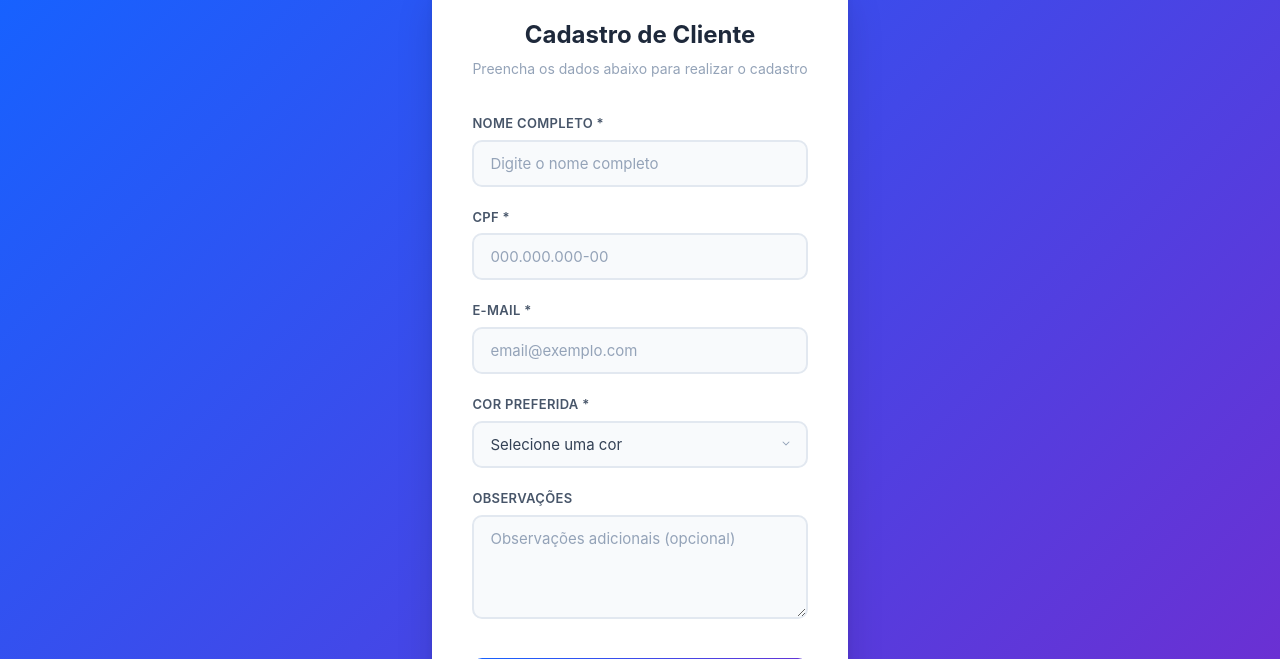
Test: ClientForm › shows error message on API failure
Type "João da Silva" into the field labelled "Nome completo *" at (640, 163), box 472,140 -> 808,187
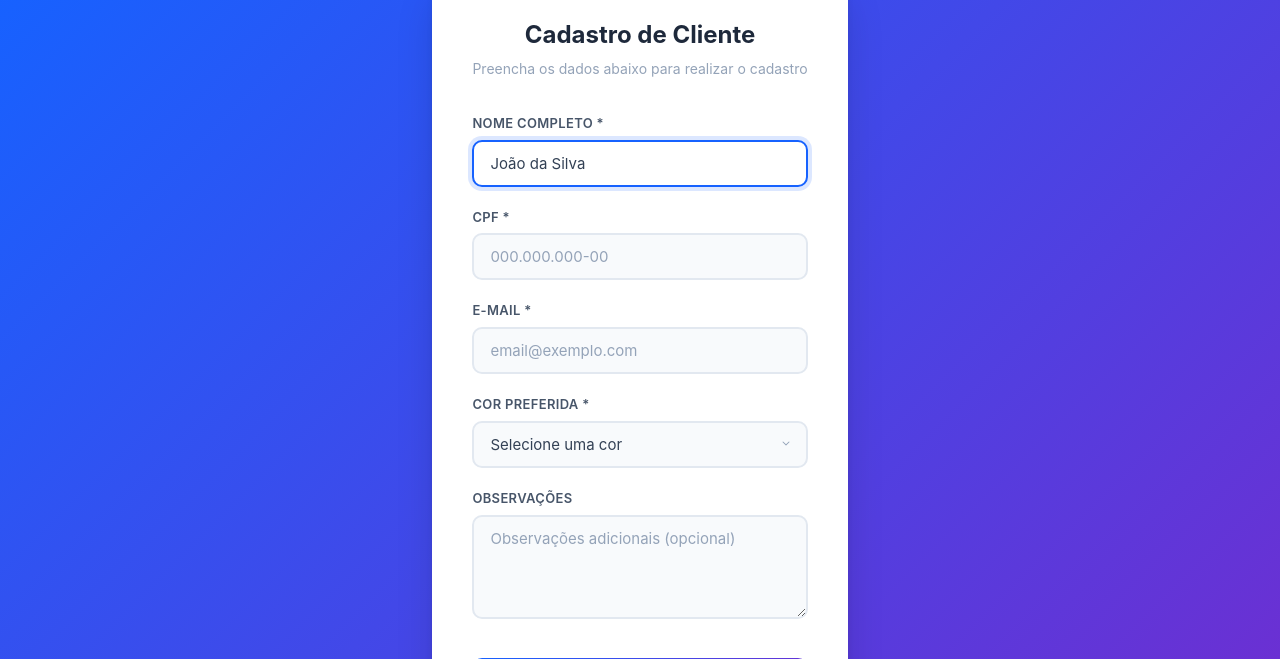
Type "52998224725" into the field labelled "CPF *" at (640, 257), box 472,233 -> 808,280
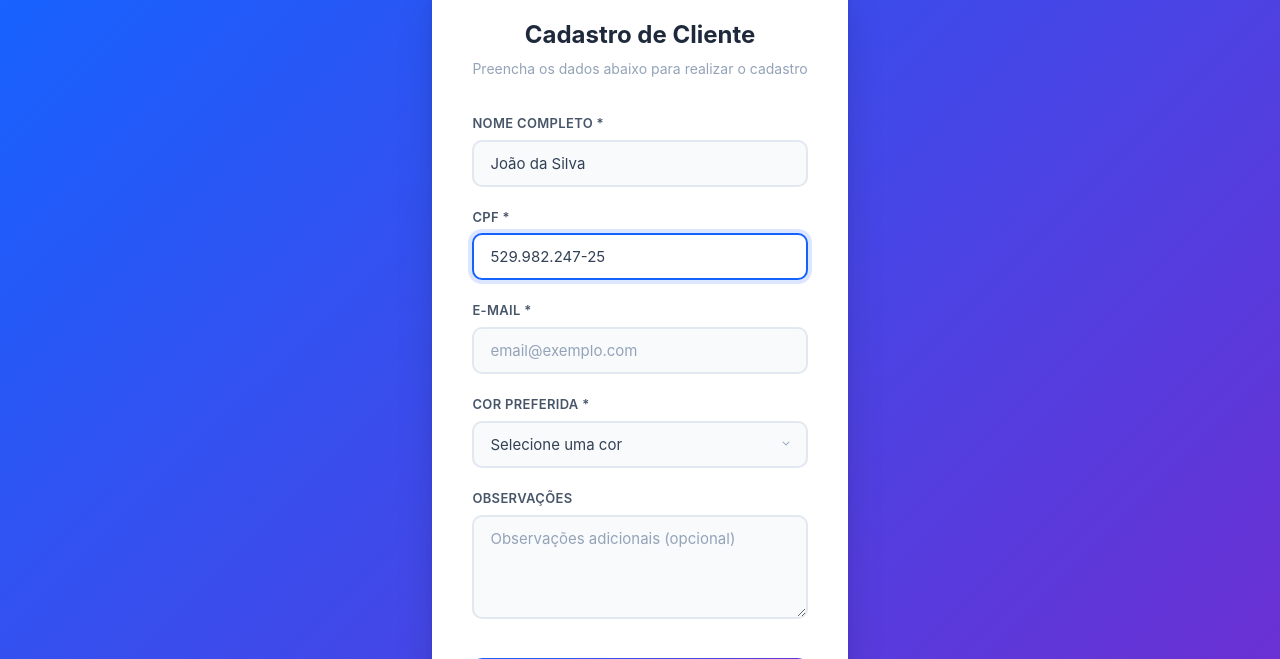
Type "joao@example.com" into the field labelled "E-mail *" at (640, 351), box 472,327 -> 808,374
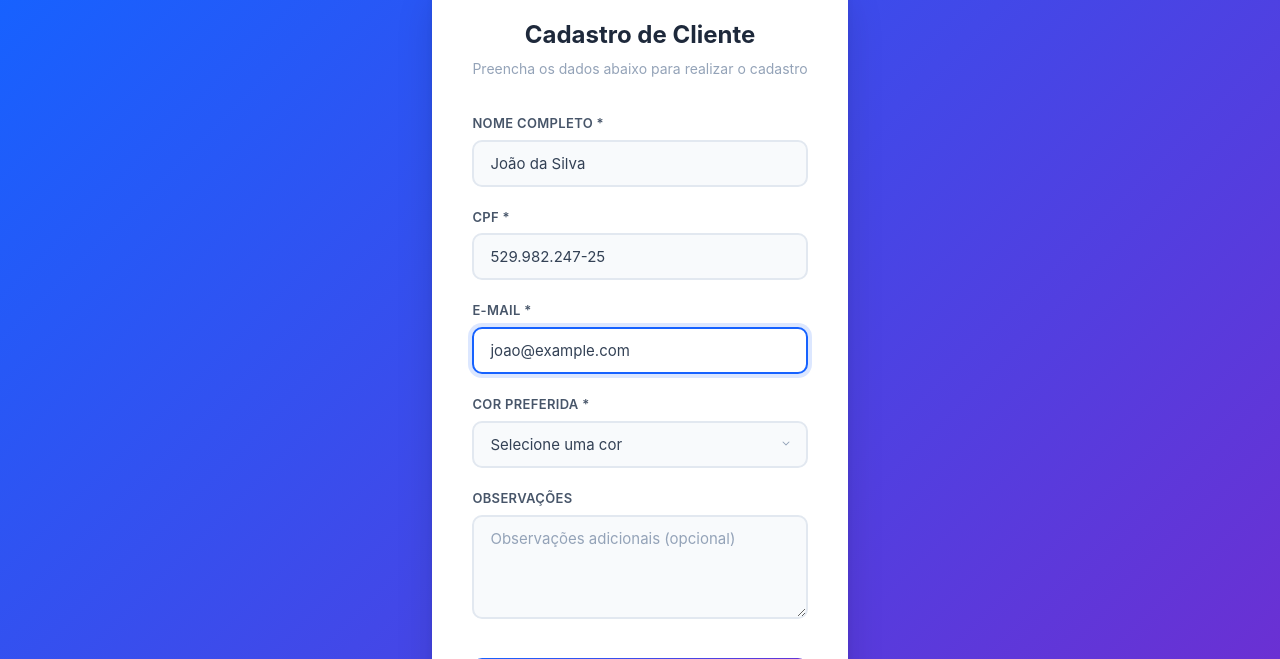
Select "Azul" in the dropdown labelled "Cor preferida *" at (640, 444), box 472,421 -> 808,468
(page scrolled)
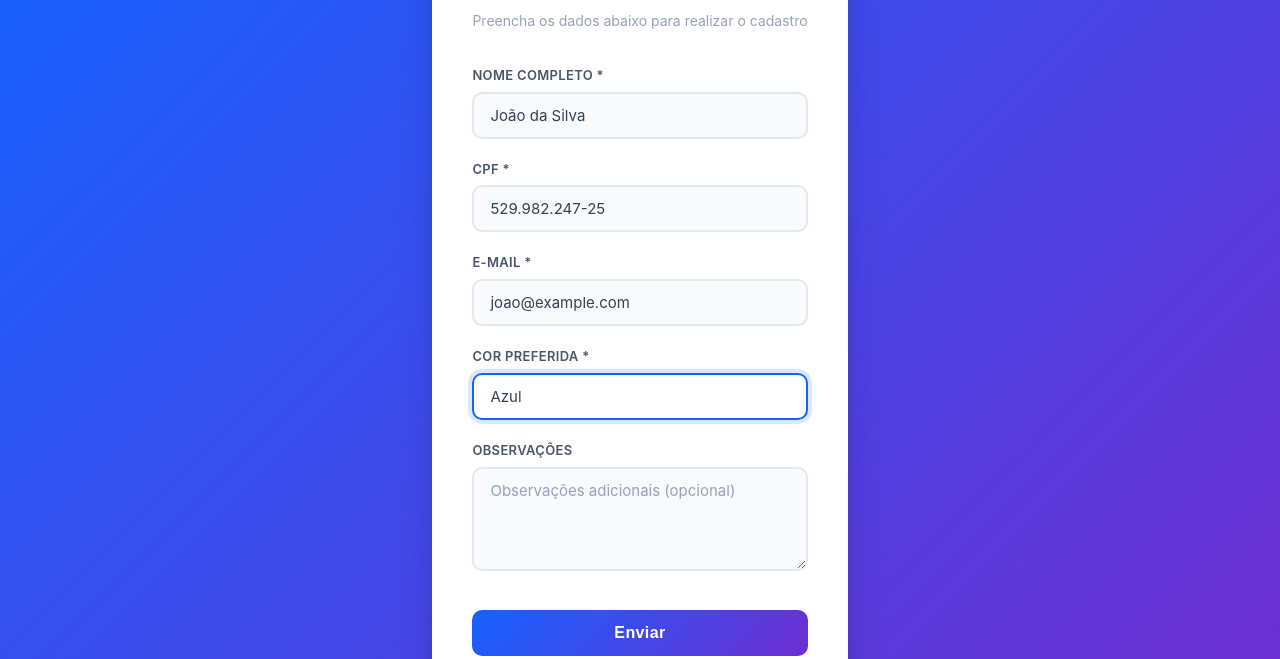
Click the button "Enviar" at (640, 633), box 472,610 -> 808,656
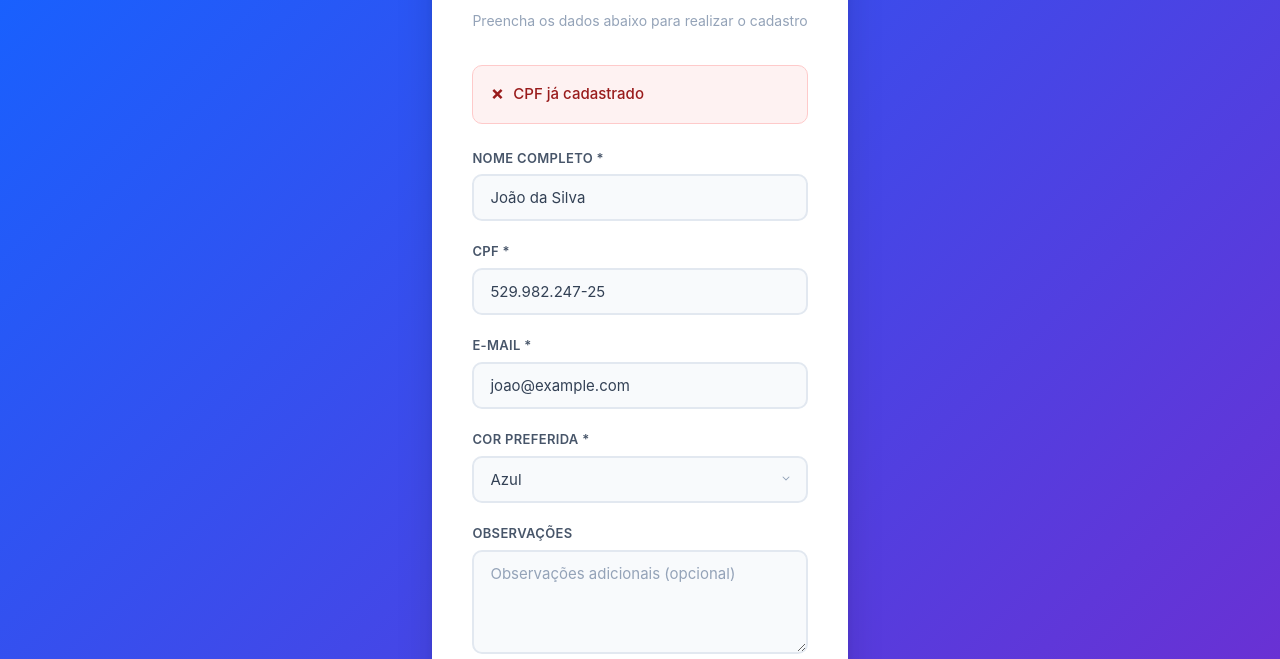
Expected: the text "CPF já cadastrado" is shown, 472,65 -> 808,124
